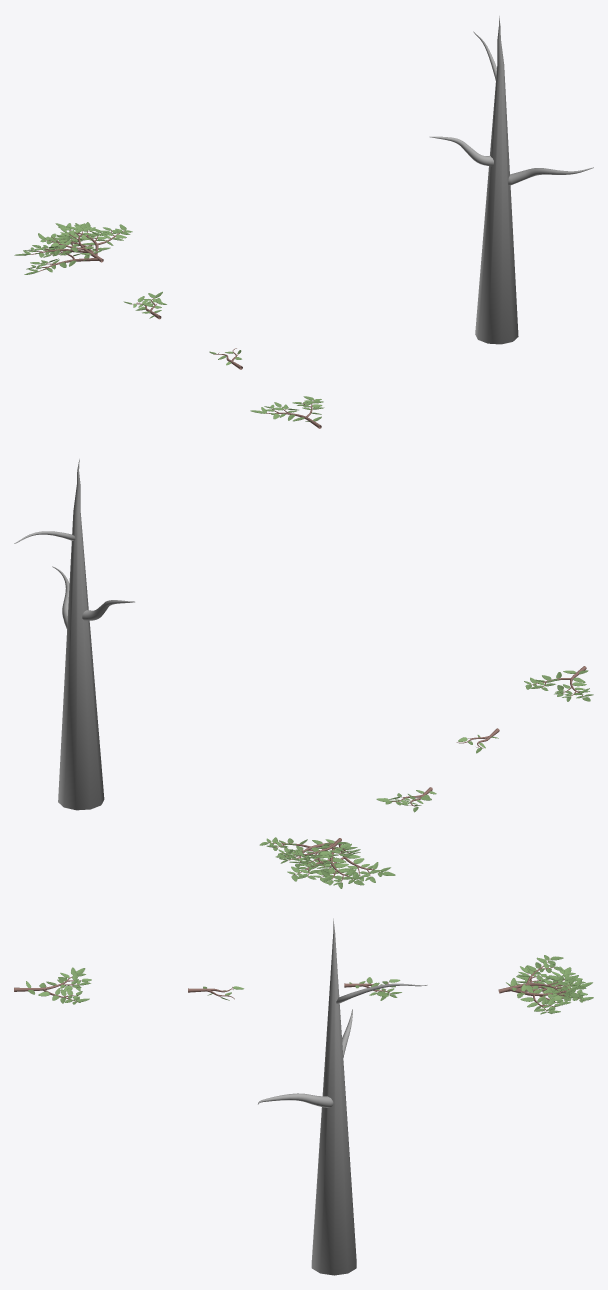
The model's file is TreeTextures.fbx.
3 views of the same model, one above another, from view 1: azimuth 30°, elevation 25°; view 2: azimuth 150°, elevation 25°; view 3: azimuth 270°, elevation 25° (orthographic). The views are drawn at different scales.
Visible parts, largest first — view 1: Tree_02_high, Tree_01_high; view 2: Tree_02_high, Tree_01_high; view 3: Tree_02_high, Tree_01_high.
Boxes of the visible parts, x1,y1,x2,y2 form: Tree_02_high: (429,16,593,344); Tree_01_high: (14,222,324,428); Tree_02_high: (14,459,134,810); Tree_01_high: (259,666,593,888); Tree_02_high: (258,918,427,1275); Tree_01_high: (14,955,593,1014).
Size of the model in its own units: 21.37 by 14.74 by 22.2.
